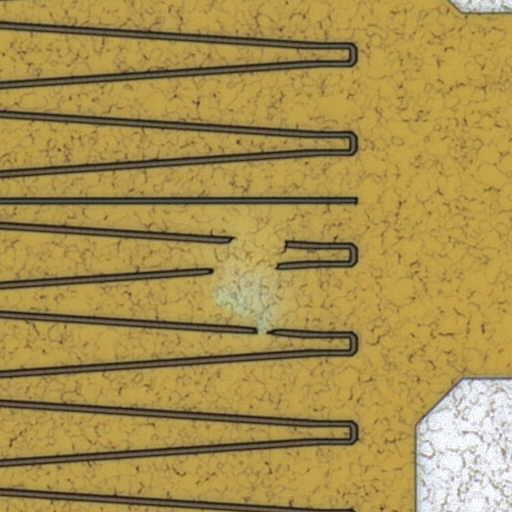BLOCK ETCH: (209, 231, 296, 337)
